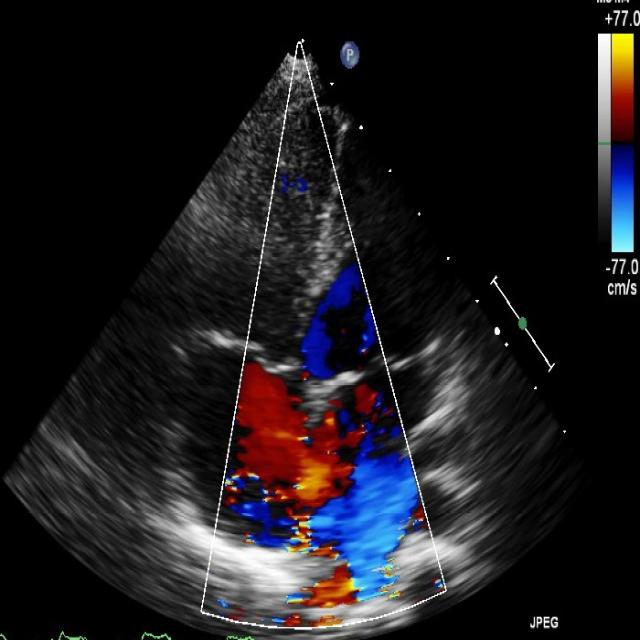ASDType2: (227, 353, 422, 606)
